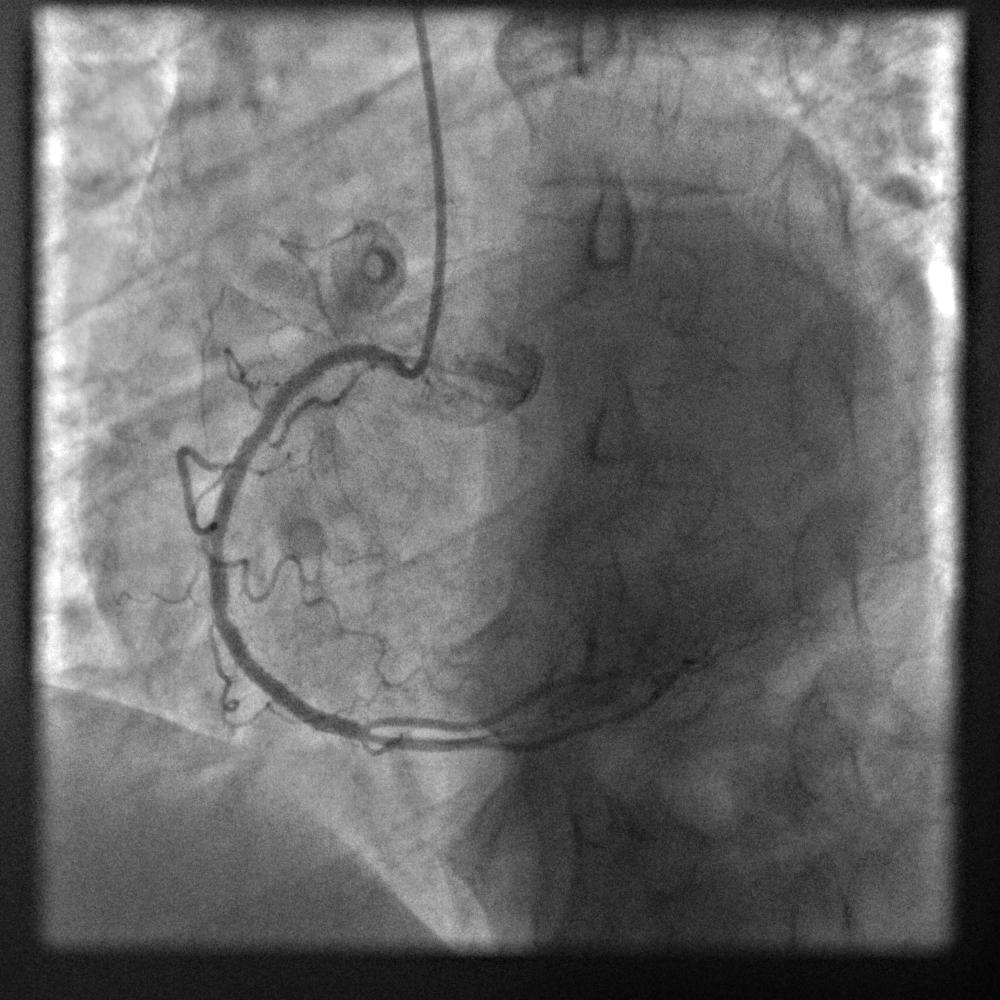Stenosis: (234, 403, 278, 458)
